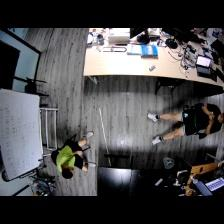normal: (146, 103, 224, 146), (56, 130, 98, 180)
